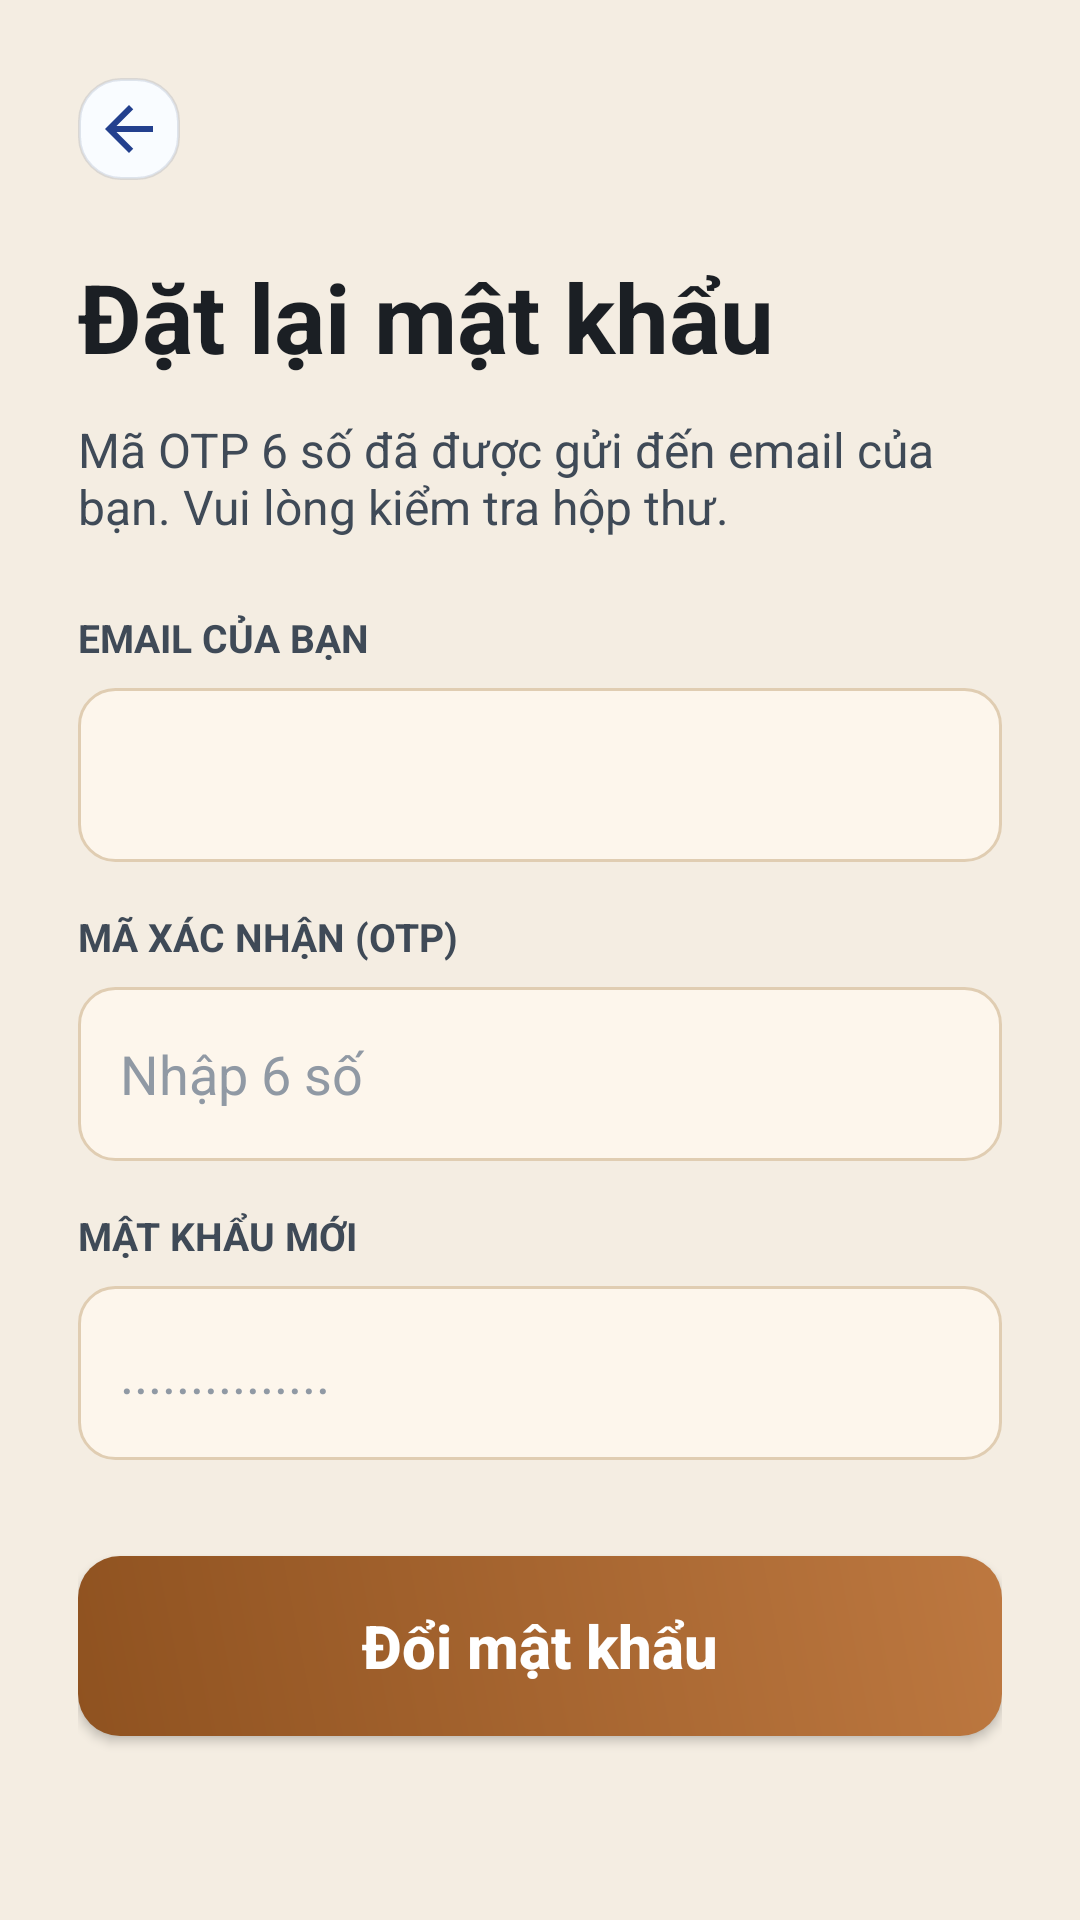

Icons on this 1080x1920 Android screen, each with the point to tap as point (x, y):
Quay lại: point (129, 129)
